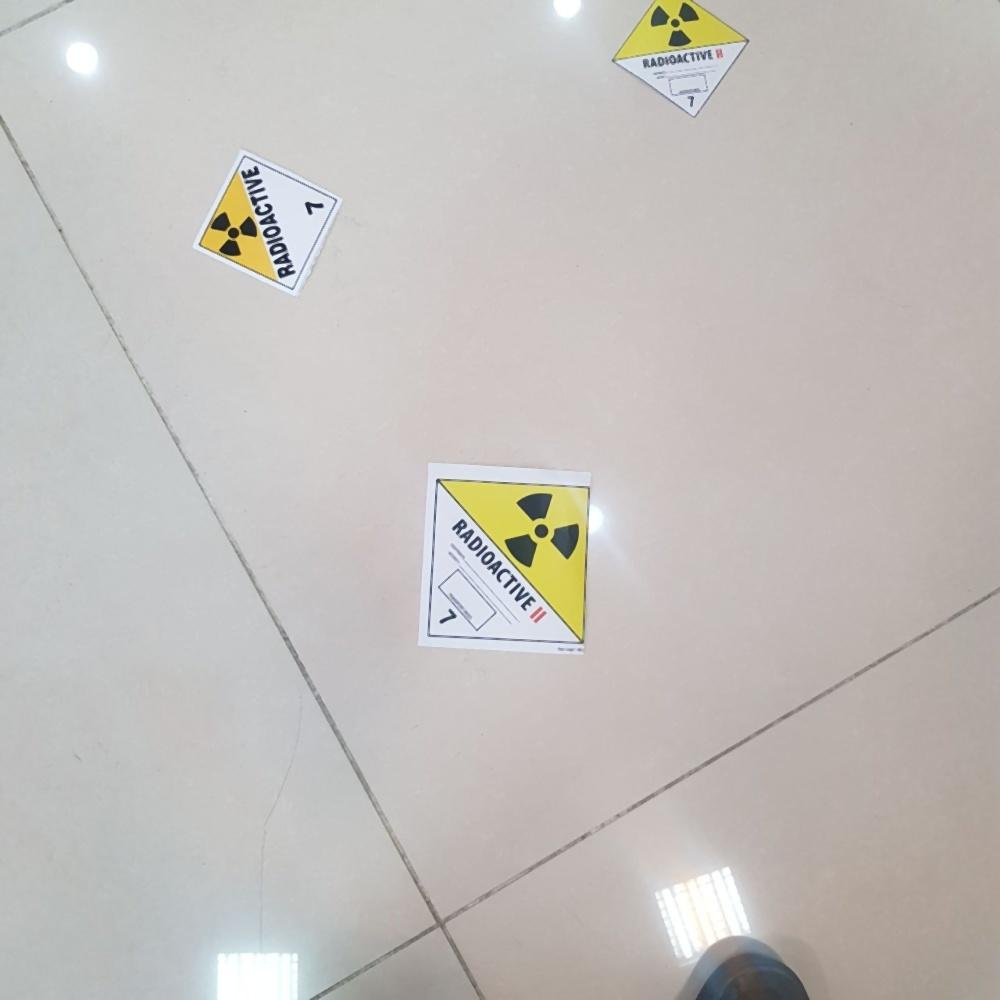radioactive: (421, 475, 588, 652), (196, 155, 339, 297), (613, 1, 753, 121)
